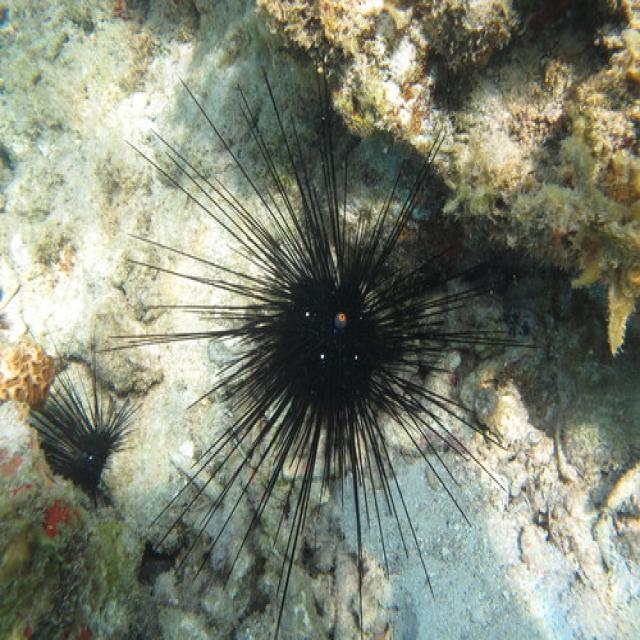Urchin: (102, 55, 543, 620), (16, 330, 140, 503)
